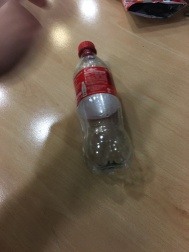bottle_red: (53, 34, 143, 176)
